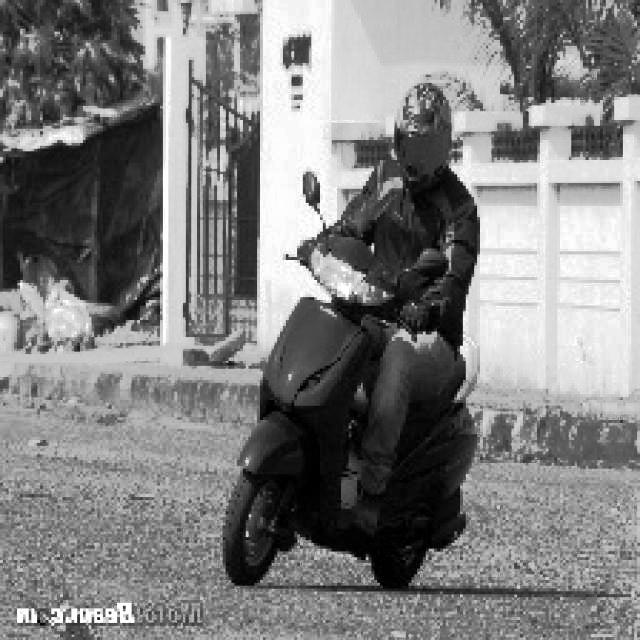Bike: (231, 215, 479, 589)
